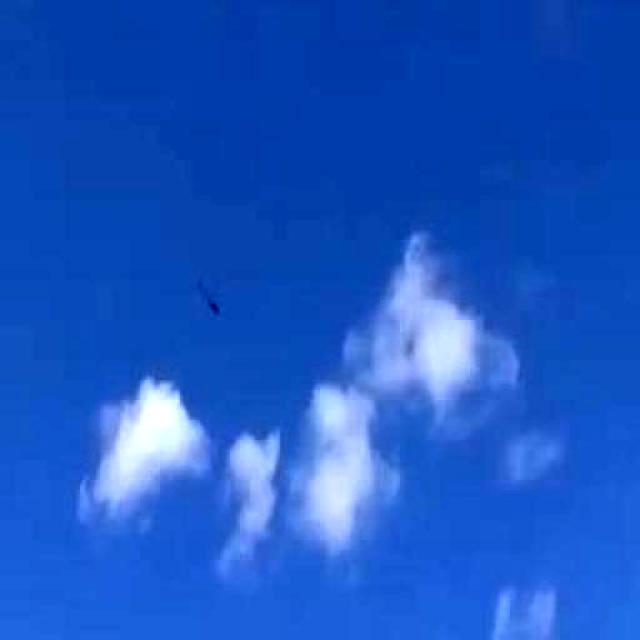drone: (171, 259, 239, 335)
